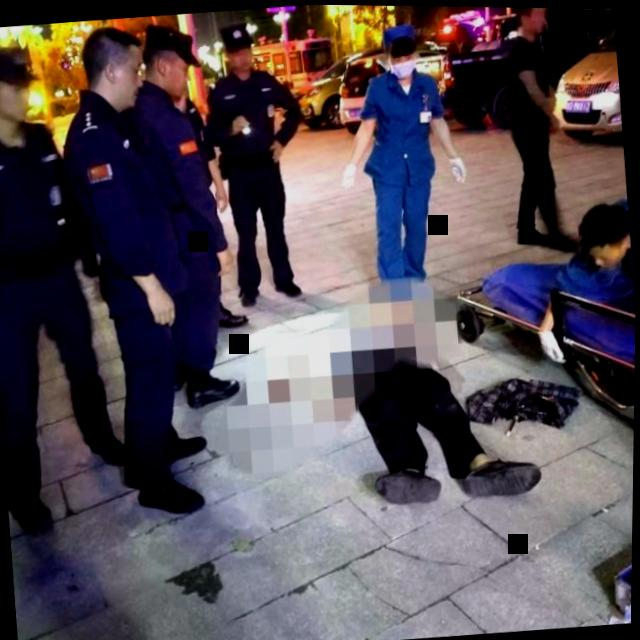Fall-Detected: (297, 276, 559, 534)
